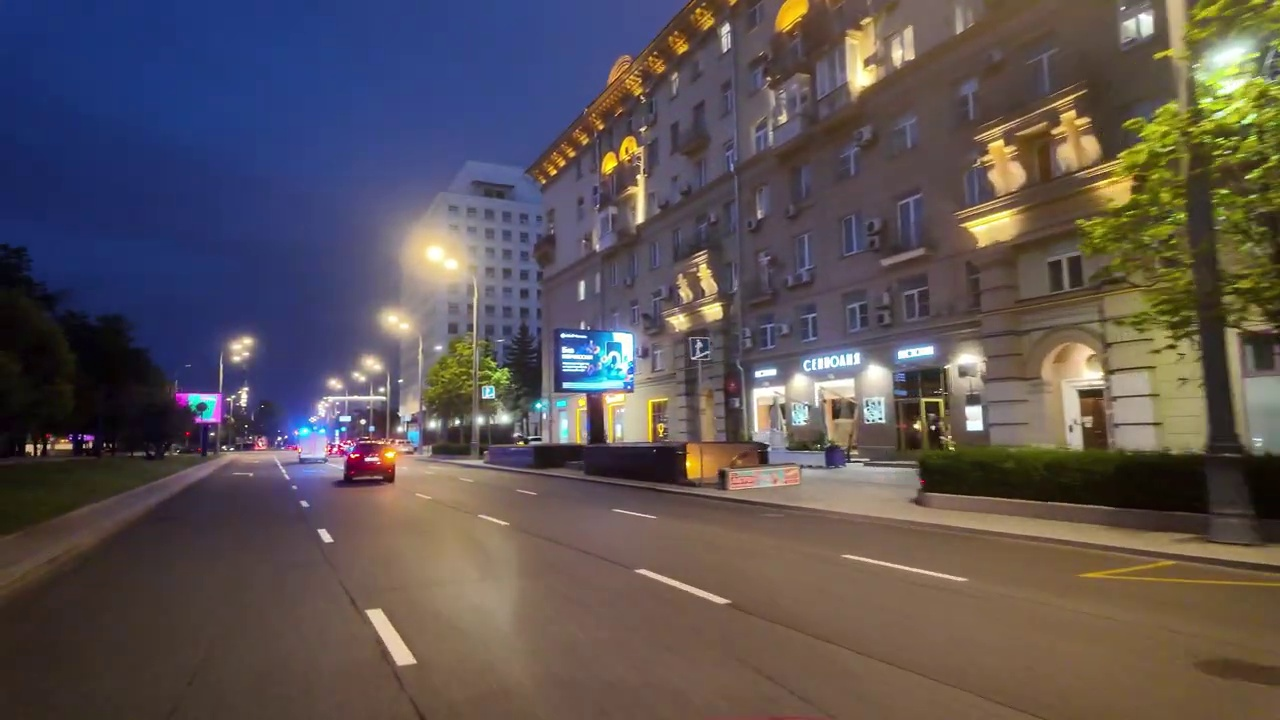acesa: (415, 234, 465, 279), (382, 308, 415, 338), (226, 334, 254, 363), (356, 354, 384, 379)
